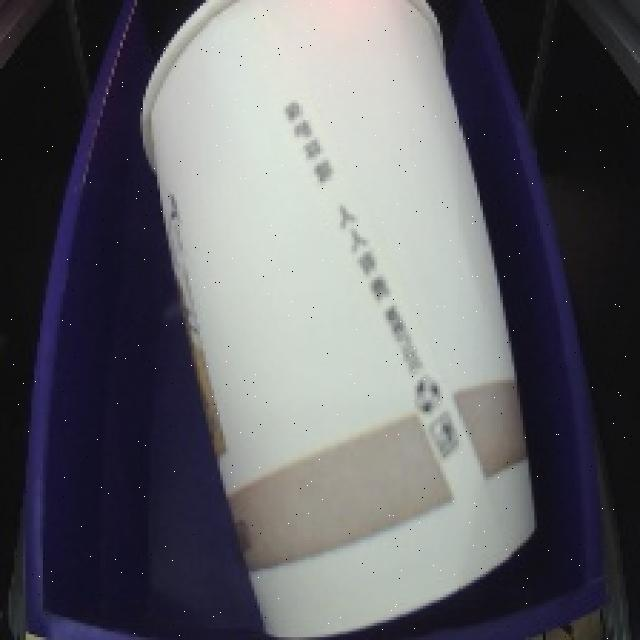cups: (124, 0, 564, 640)
